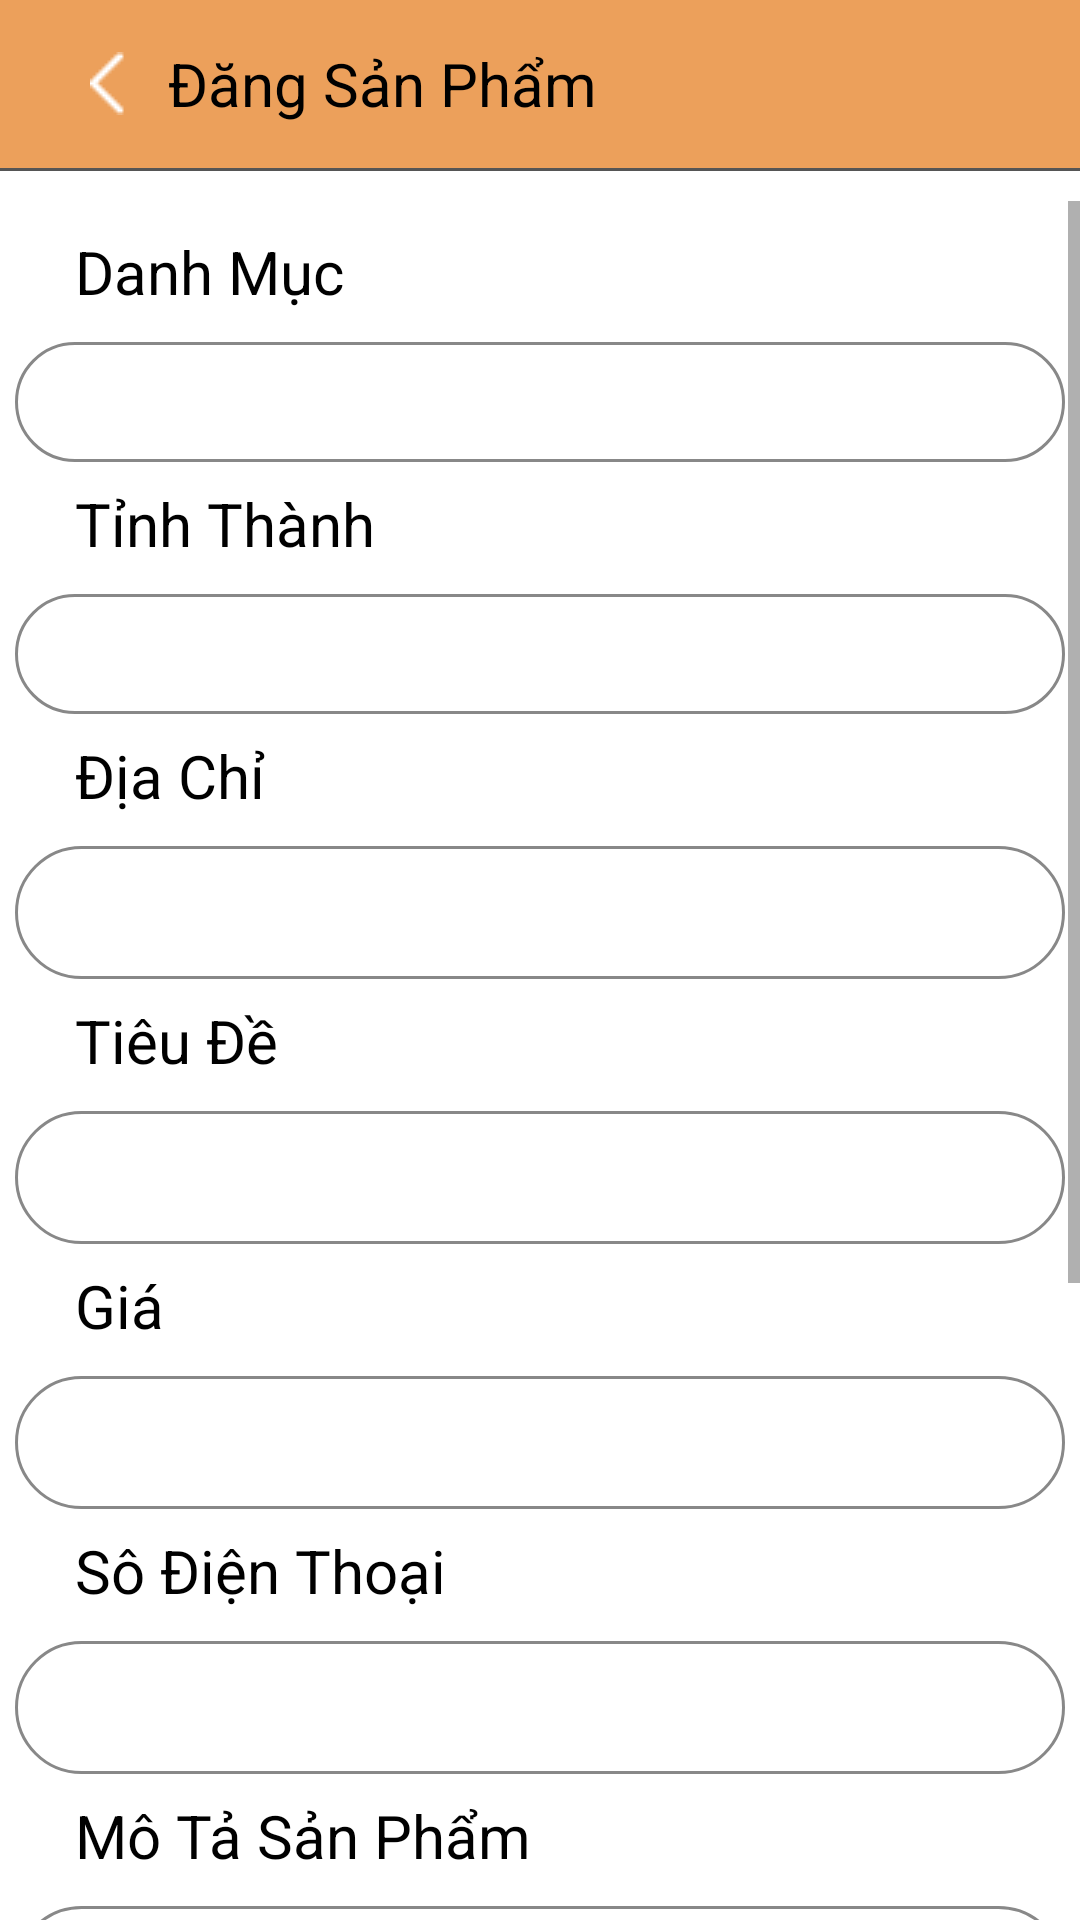

Point at icon controls on the screen. Image size 1080 x 1920, points as point (x, y).
exit: point (107, 83)
